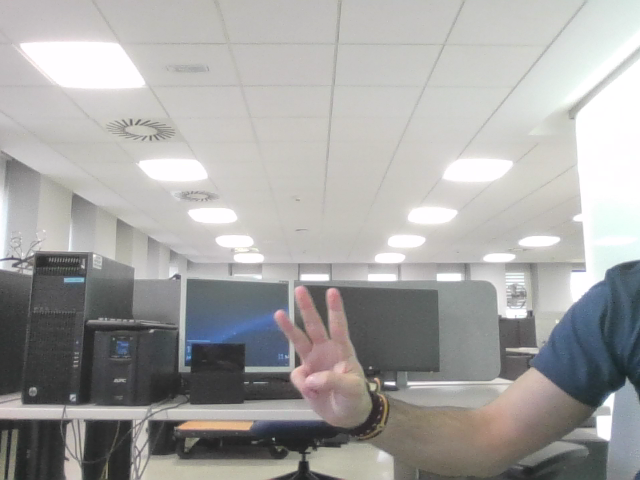3Dedos: (282, 297, 351, 397)
